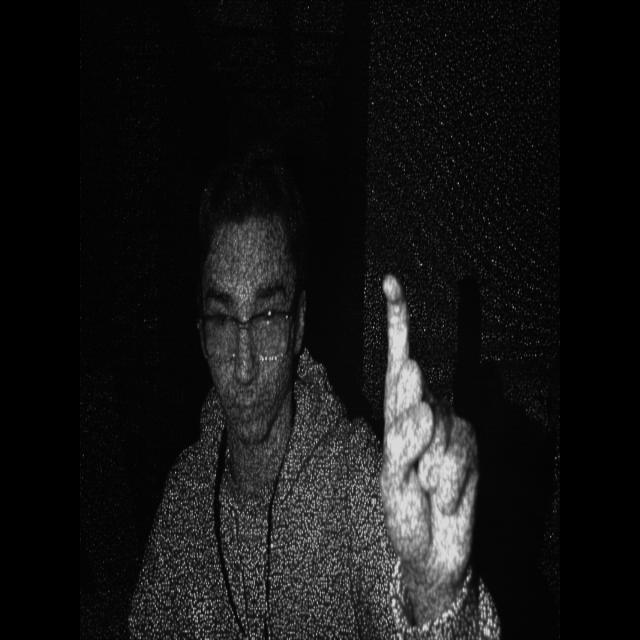X: (364, 255, 474, 590)
